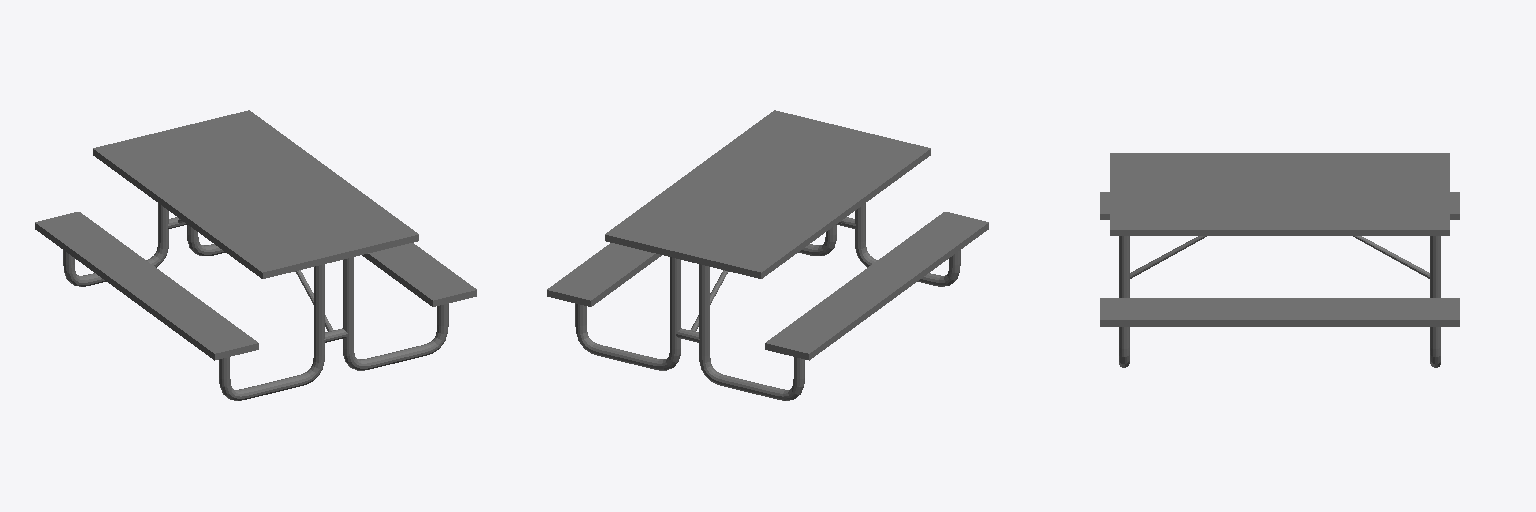
File: MesaPicnic.obj
3 views of the same model, side by side, from view 1: azimuth 30°, elevation 25°; view 2: azimuth 150°, elevation 25°; view 3: azimuth 270°, elevation 25° (orthographic).
Parts seen in each view (by area): view 1: picnictable; view 2: picnictable; view 3: picnictable.
Part boxes in pixels (bbox=[...]): picnictable: bbox=[35, 110, 476, 400]; picnictable: bbox=[547, 110, 988, 400]; picnictable: bbox=[1100, 153, 1459, 367].
Size of the model in its own units: 167 by 78.45 by 198.